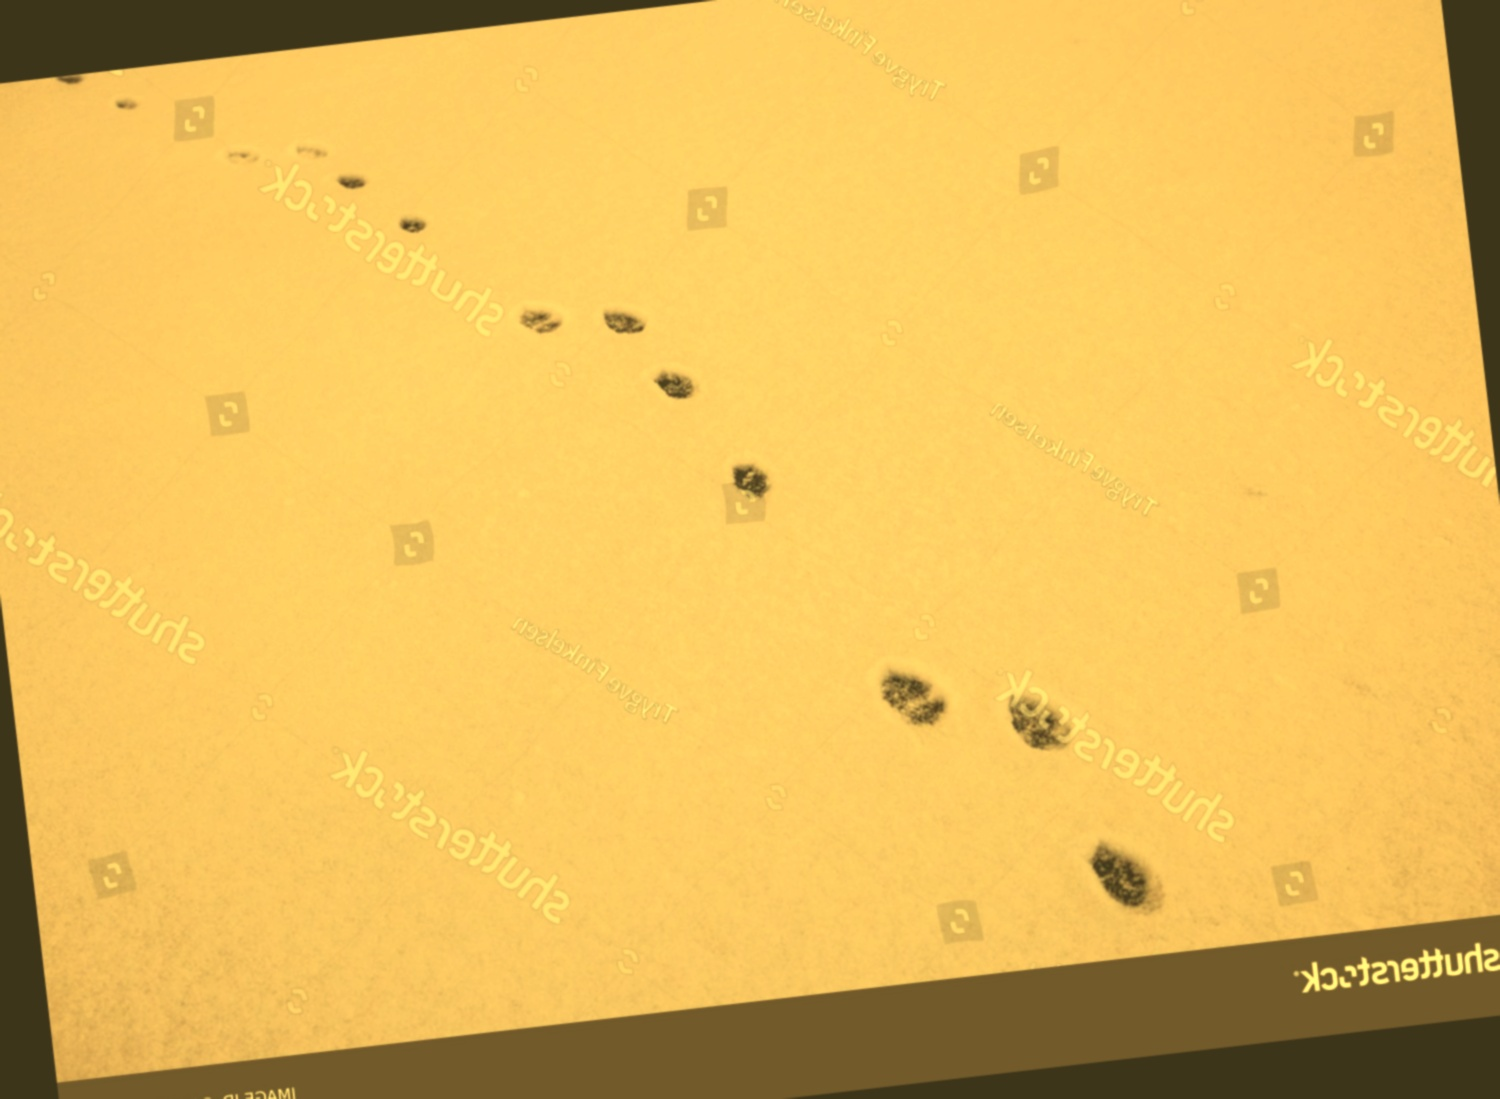lapin: (1050, 813, 1177, 951), (992, 661, 1094, 770), (859, 647, 958, 742), (695, 441, 785, 536), (211, 127, 333, 183), (641, 339, 721, 421), (502, 288, 569, 346), (590, 290, 653, 346), (326, 165, 373, 193), (394, 211, 433, 242)
